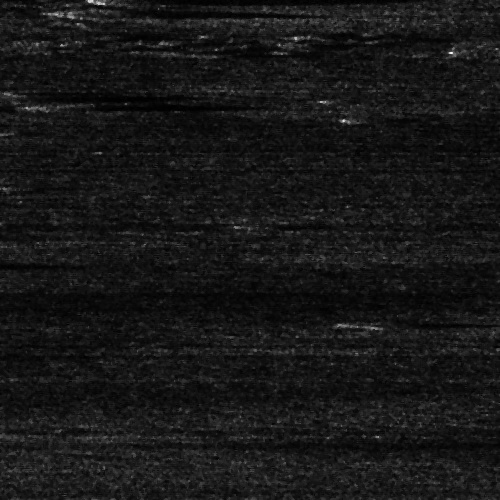object: (10, 100, 103, 111), (58, 5, 141, 16), (0, 91, 54, 102), (318, 319, 391, 326), (58, 0, 163, 1)
shadow: (99, 5, 272, 16), (57, 100, 222, 111), (0, 91, 112, 102), (355, 319, 446, 326), (111, 0, 378, 1)
